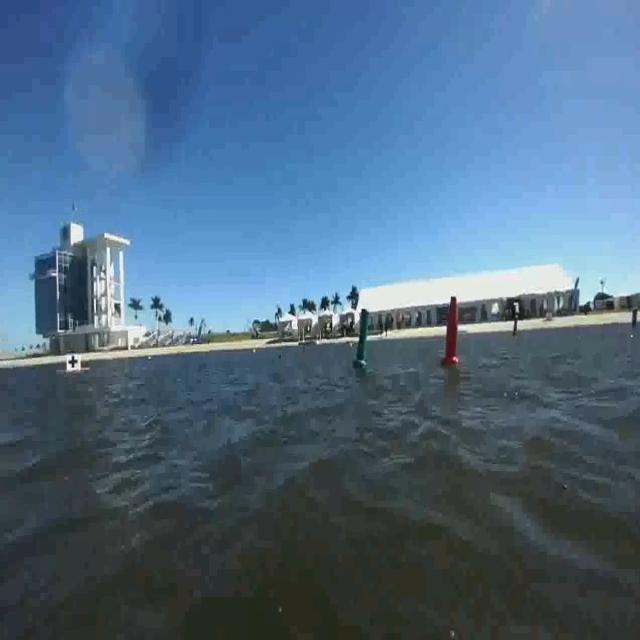green-column-buoy: (352, 307, 372, 373)
red-column-buoy: (442, 292, 464, 366)
